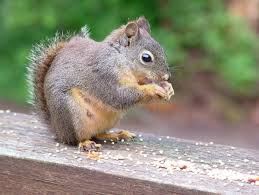squirrel: (29, 18, 174, 151)
